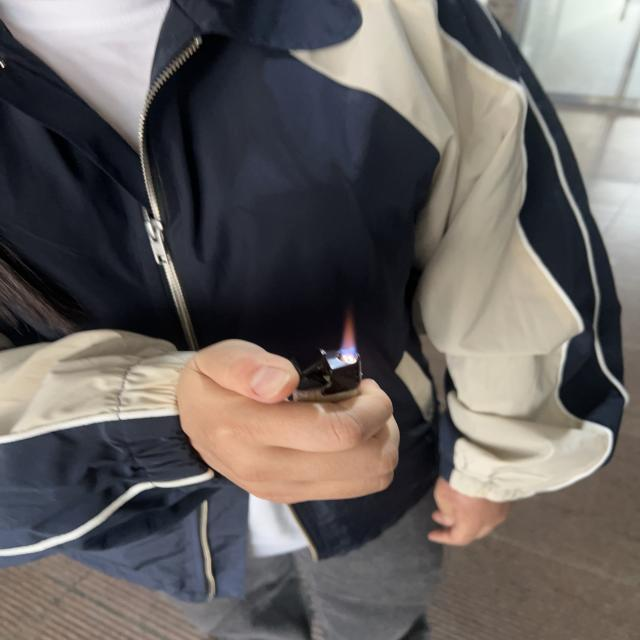fire: (342, 313, 356, 367)
